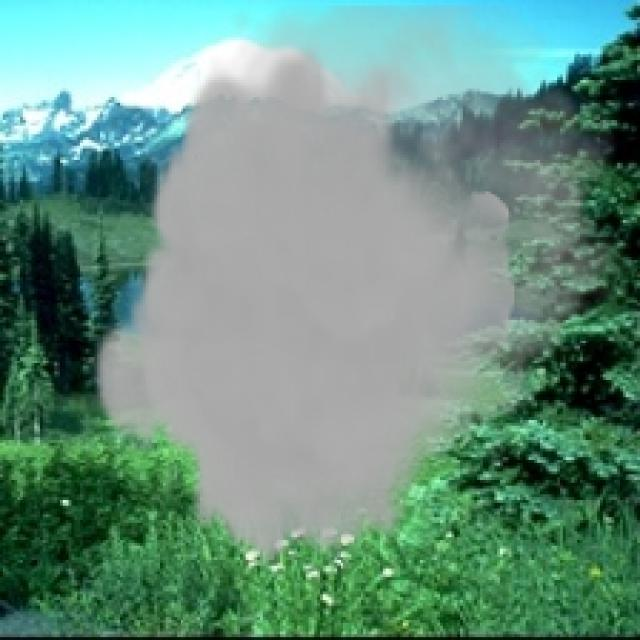smoke: (89, 6, 632, 568)
